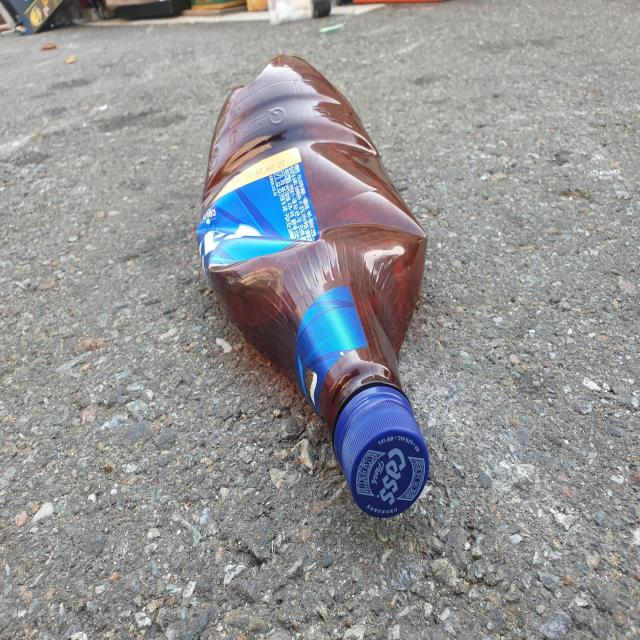plastic: (197, 54, 430, 518)
